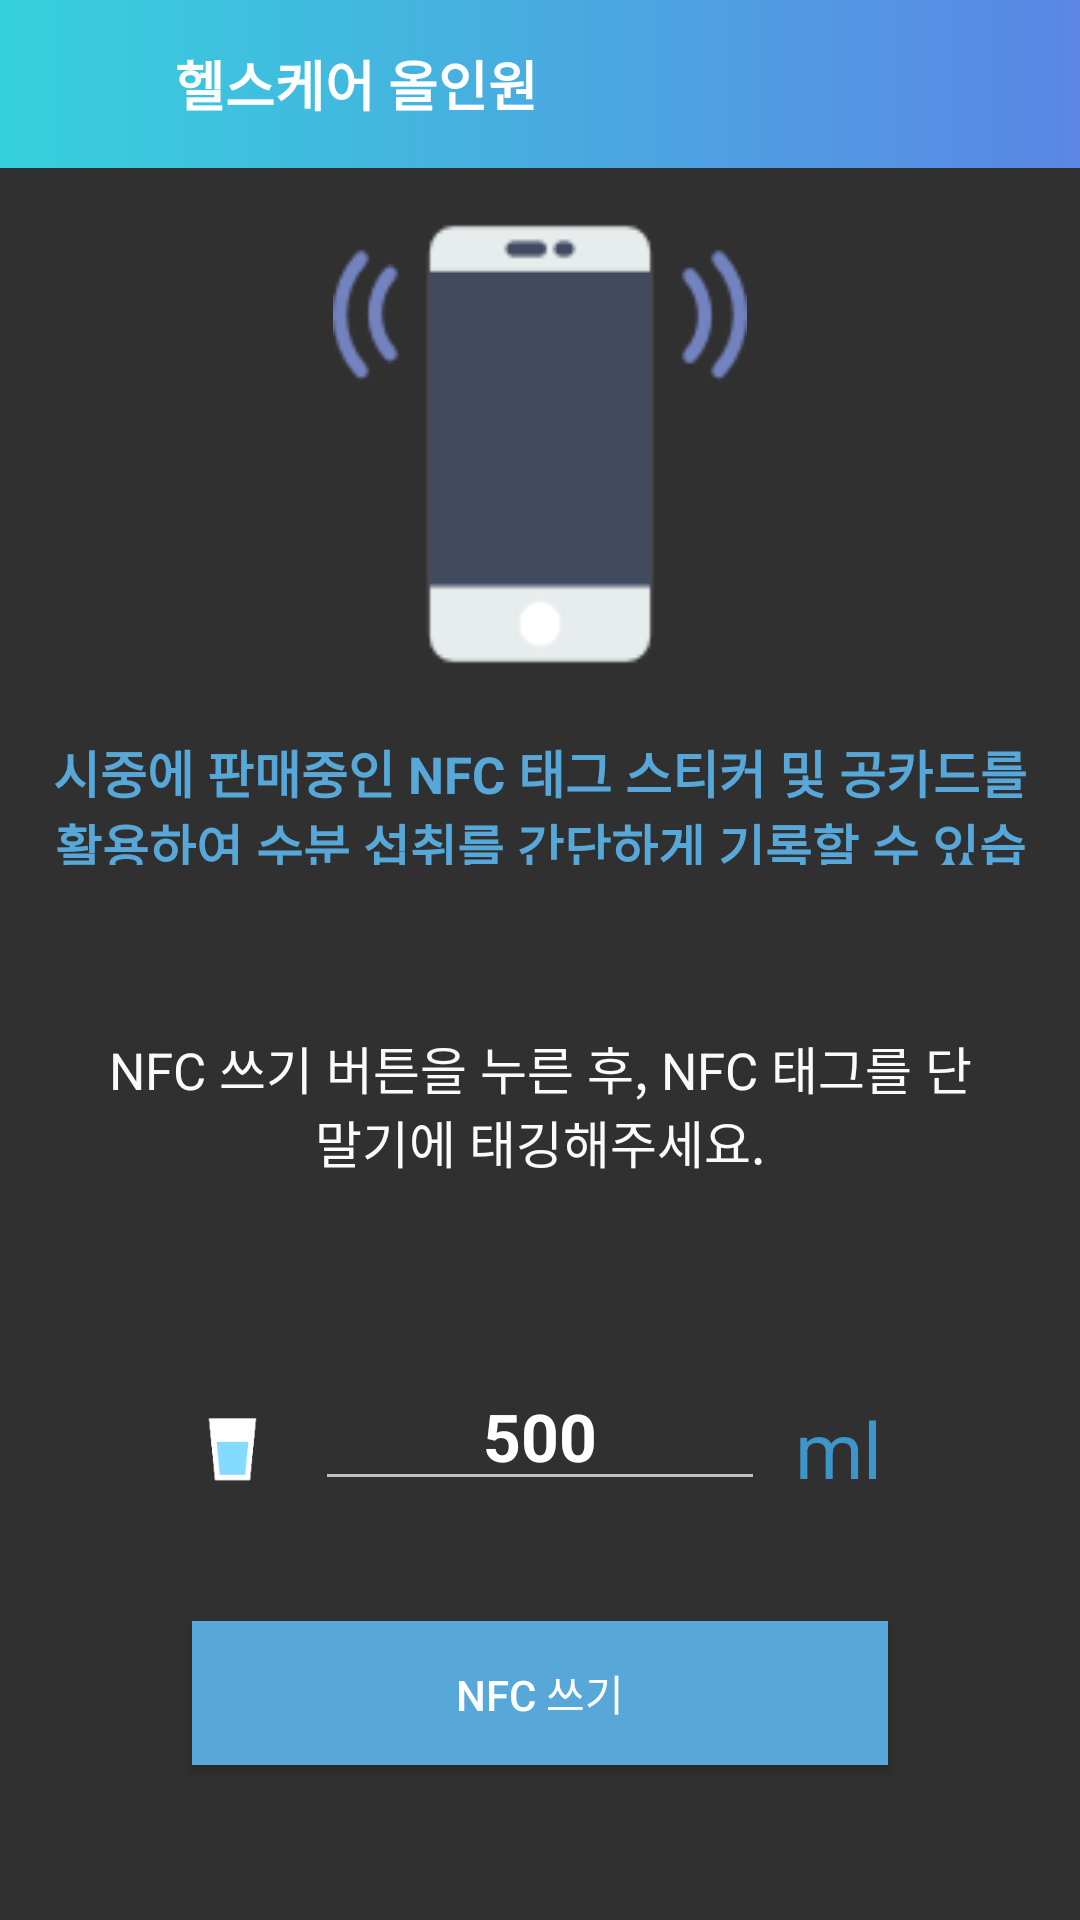

Icon click points for this 1080px x 1920px phone screenshot, format [x,y]:
glass: [232,1449]
